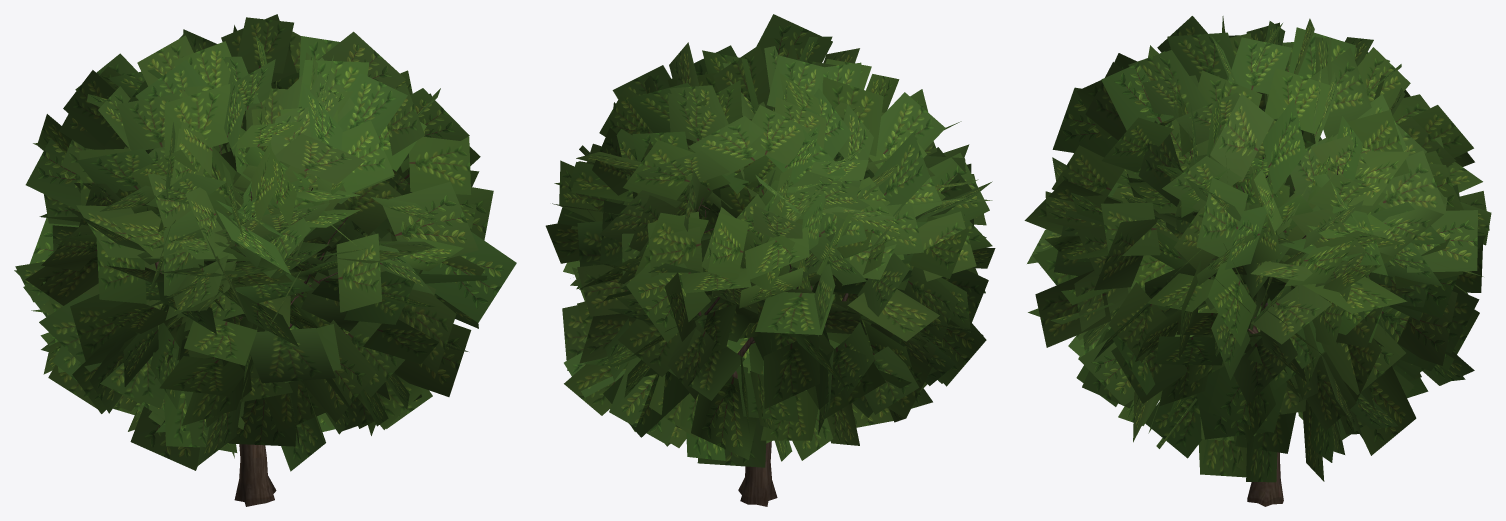
The model's file is tree_round_a.glb.
The picture shows the model from 3 angles, left to right: view 1: azimuth 30°, elevation 25°; view 2: azimuth 150°, elevation 25°; view 3: azimuth 270°, elevation 25°; orthographic projection. The views are drawn at different scales.
Parts seen in each view (by area): view 1: tree_round_a_leaves, tree_round_a; view 2: tree_round_a_leaves, tree_round_a; view 3: tree_round_a_leaves, tree_round_a.
Boxes of the visible parts, x1,y1,x2,y2 form: tree_round_a_leaves: (14, 14, 516, 471); tree_round_a: (155, 145, 347, 506); tree_round_a_leaves: (545, 14, 995, 467); tree_round_a: (697, 182, 848, 506); tree_round_a_leaves: (1024, 16, 1491, 482); tree_round_a: (1178, 150, 1369, 506).
Size of the model in its own units: 10.78 by 11.49 by 10.42.
2 materials, 2 textured.
